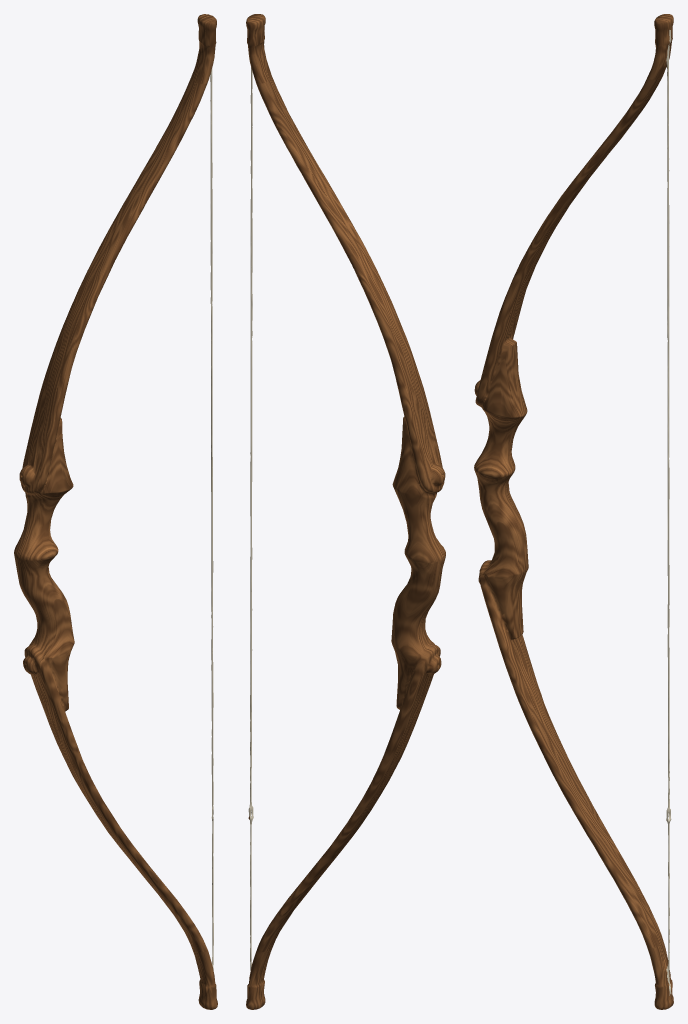
Rendered from bow.glb.
3 views of the same model, side by side, from view 1: azimuth 30°, elevation 25°; view 2: azimuth 150°, elevation 25°; view 3: azimuth 330°, elevation 25° (orthographic).
Visible parts, largest first — view 1: Longbow; view 2: Longbow; view 3: Longbow.
Part boxes in pixels (x1,y1,x2,y2): Longbow: [14, 14, 217, 1009]; Longbow: [246, 14, 445, 1009]; Longbow: [474, 14, 673, 1009].
Size of the model in its own units: 0.3961 by 1.9 by 0.0766.
Materials: 2 (1 with a texture image).
